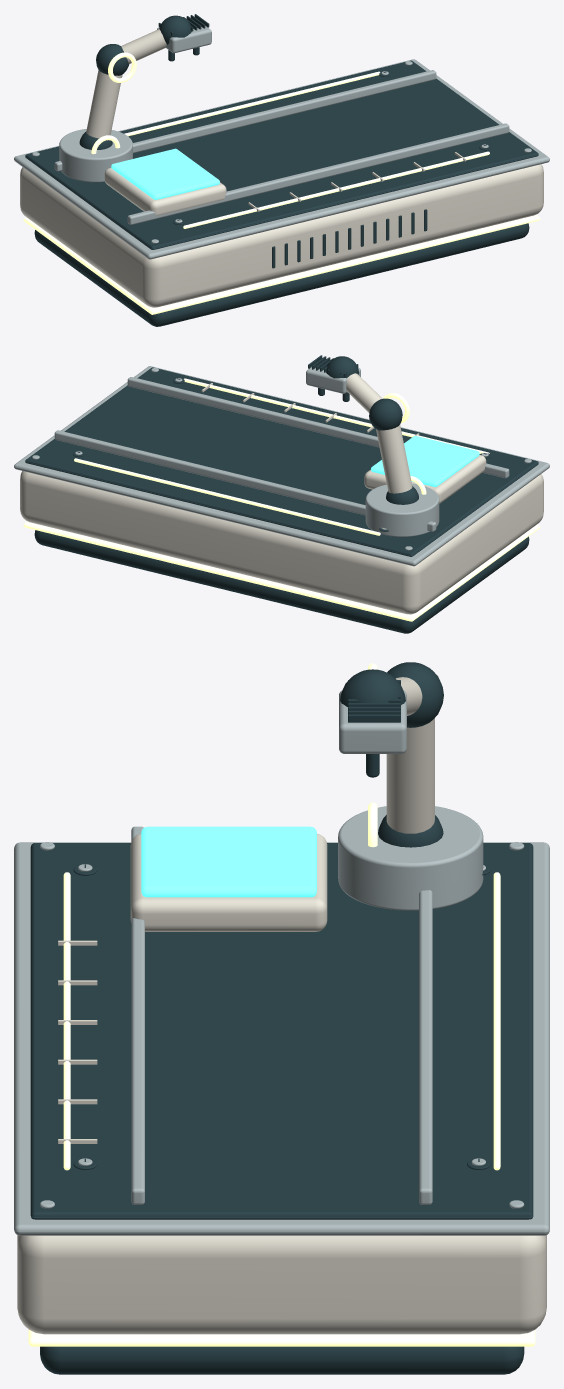
Rendered from test-bench.glb.
The picture shows the model from 3 angles, top to bottom: view 1: azimuth 30°, elevation 25°; view 2: azimuth 150°, elevation 25°; view 3: azimuth 270°, elevation 25°; orthographic projection. The views are drawn at different scales.
Visible parts, largest first — view 1: test-bench | Graphite precision, test-bench | Ceramic | warm ivory, test-bench | Brushed aluminum, test-bench | Warm edge lighting, Elastic surface; view 2: test-bench | Graphite precision, test-bench | Ceramic | warm ivory, test-bench | Brushed aluminum, test-bench | Warm edge lighting, Elastic surface; view 3: test-bench | Graphite precision, test-bench | Ceramic | warm ivory, test-bench | Brushed aluminum, Elastic surface, test-bench | Warm edge lighting.
Part boxes in pixels (box(x1,y1,x2,y2)): test-bench | Graphite precision: box(25, 14, 538, 326); test-bench | Ceramic | warm ivory: box(20, 29, 543, 307); test-bench | Brushed aluminum: box(14, 26, 549, 259); test-bench | Warm edge lighting: box(23, 52, 540, 314); Elastic surface: box(111, 148, 219, 199); test-bench | Graphite precision: box(25, 355, 538, 633); test-bench | Ceramic | warm ivory: box(20, 373, 543, 614); test-bench | Brushed aluminum: box(14, 366, 549, 566); test-bench | Warm edge lighting: box(23, 378, 540, 621); Elastic surface: box(371, 436, 479, 486); test-bench | Graphite precision: box(30, 662, 533, 1374); test-bench | Ceramic | warm ivory: box(17, 677, 546, 1334); test-bench | Brushed aluminum: box(14, 690, 549, 1235); Elastic surface: box(141, 826, 316, 897); test-bench | Warm edge lighting: box(28, 663, 535, 1346).
Bounding box in the file's own units: 6.04 × 3.26 × 3.54.
